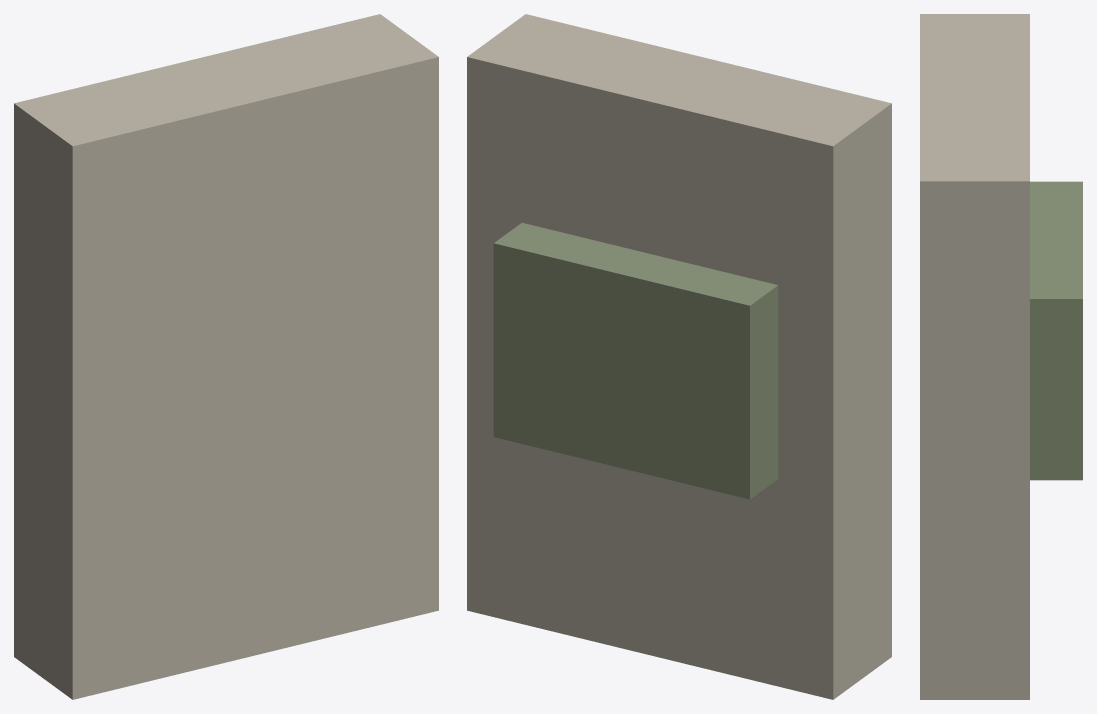
The model's file is seed_packet.glb.
The picture shows the model from 3 angles, left to right: view 1: azimuth 30°, elevation 25°; view 2: azimuth 150°, elevation 25°; view 3: azimuth 270°, elevation 25°; orthographic projection. The views are drawn at different scales.
Visible parts, largest first — view 1: body; view 2: body; view 3: body.
Boxes of the visible parts, x1=… form: body: x1=14, y1=14, x2=438, y2=699; body: x1=467, y1=14, x2=891, y2=699; body: x1=920, y1=14, x2=1082, y2=699.
Size of the model in its own units: 0.09 by 0.13 by 0.037.
